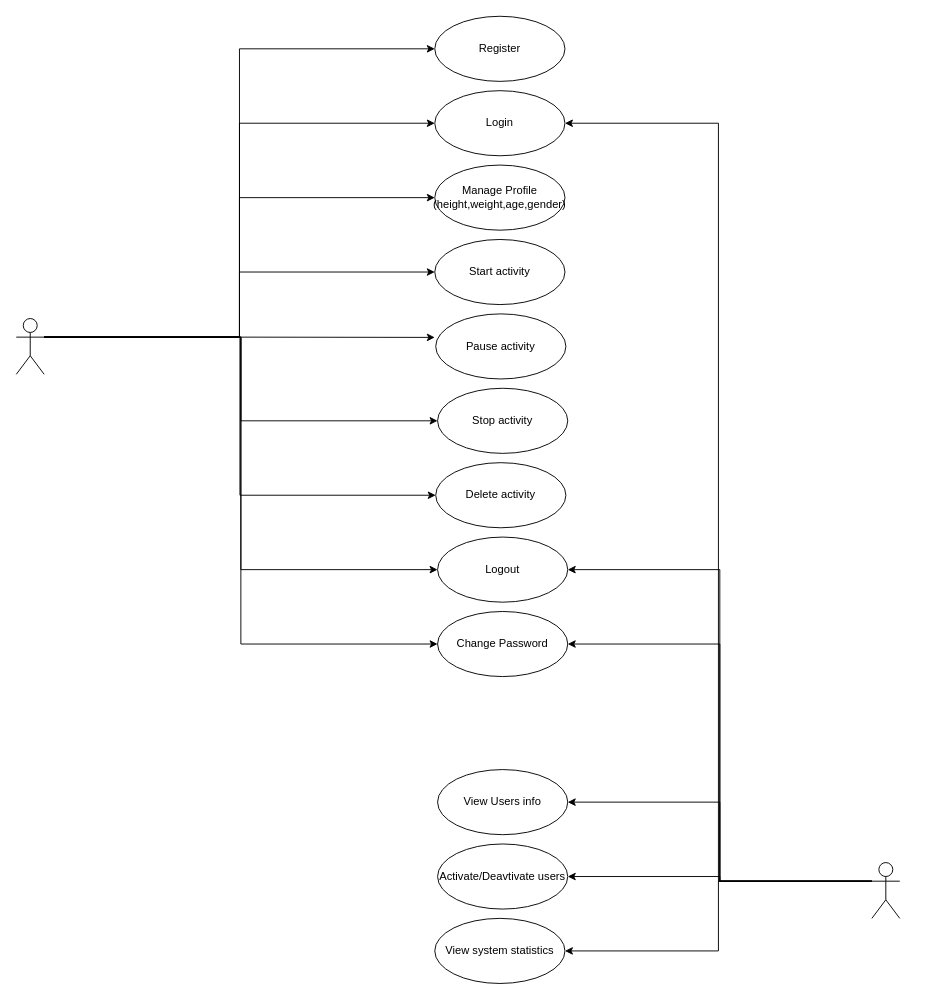
This 935x1000 diagram has some shape labels left out. Each missing label, with the centre of its shape:
"Administrator" belongs at pixel 885 890.
"User" belongs at pixel 29 346.
